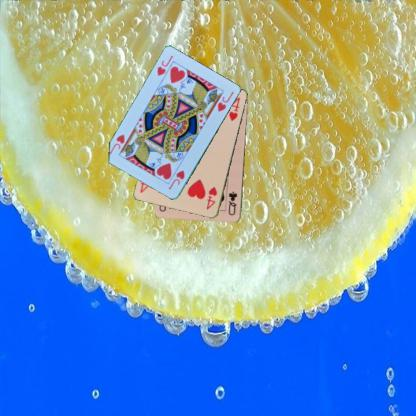4h: (204, 184, 218, 211)
Jh: (154, 53, 174, 78), (166, 168, 186, 191)
Qc: (226, 189, 239, 217)
